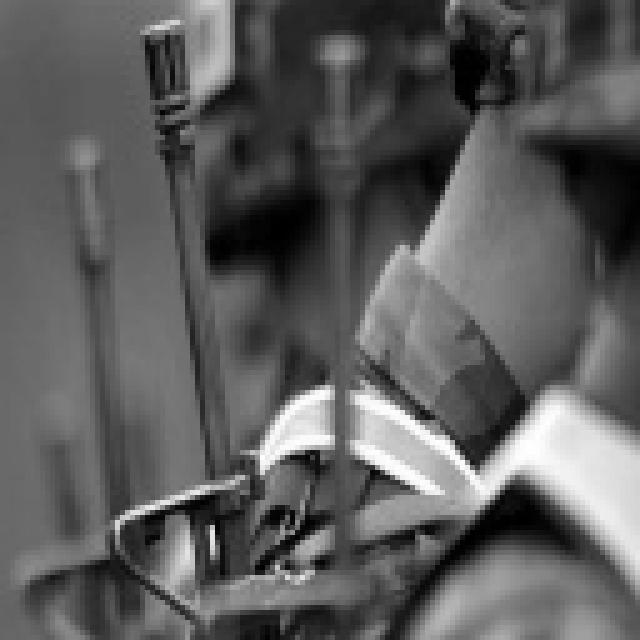Rifle: (95, 20, 290, 640), (250, 14, 435, 640), (0, 106, 146, 640), (5, 386, 114, 640)
